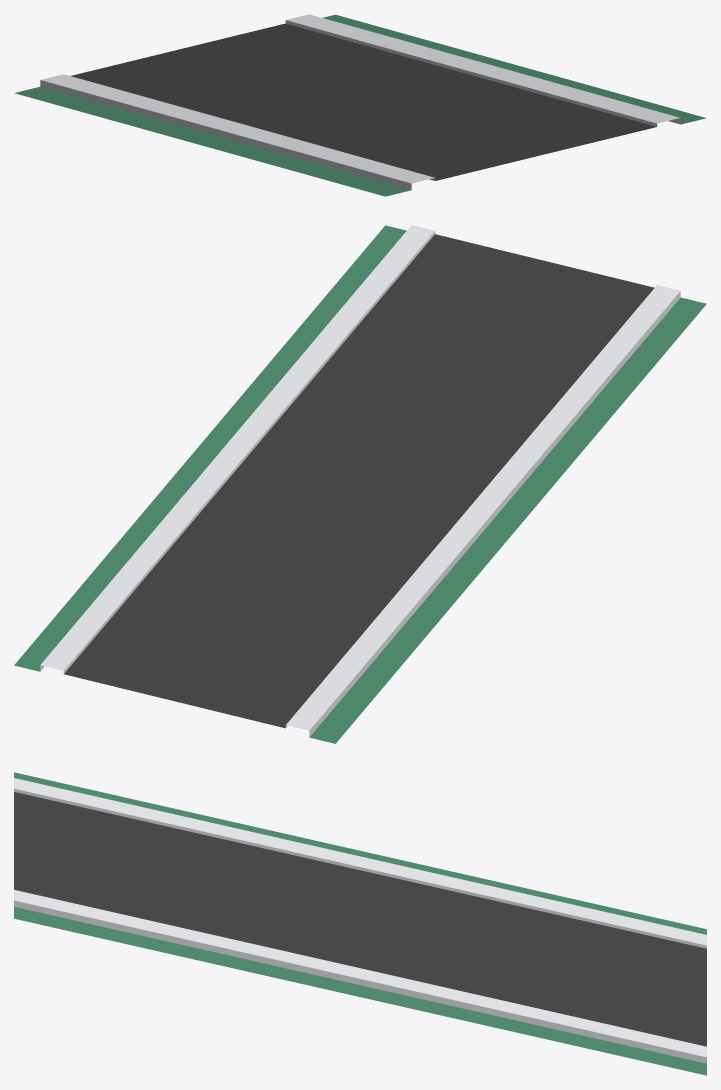
File: roadRampLong.obj
The picture shows the model from 3 angles, top to bottom: view 1: azimuth 30°, elevation 25°; view 2: azimuth 150°, elevation 25°; view 3: azimuth 270°, elevation 25°; orthographic projection. The views are drawn at different scales.
Visible parts, largest first — view 1: roadRampLong; view 2: roadRampLong; view 3: roadRampLong.
Part boxes in pixels (x1=…): roadRampLong: x1=14, y1=14, x2=706, y2=196; roadRampLong: x1=14, y1=225, x2=706, y2=743; roadRampLong: x1=14, y1=772, x2=706, y2=1075.
Bounding box in the file's own units: 1 × 0.52 × 2.
